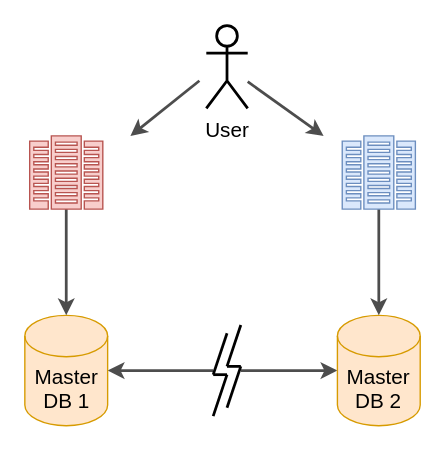
Some shapes in this 444 by 450 pixel diagram are drawn without their labels. The centre of each missing label's shape, as x and y in pixels:
"DC 1" goes at [65,172].
"DC 2" goes at [378,172].
